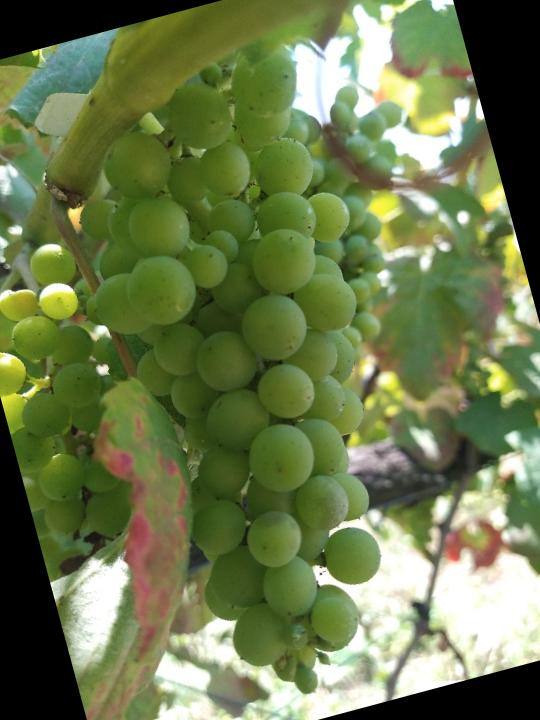grape: (30, 34, 467, 720)
